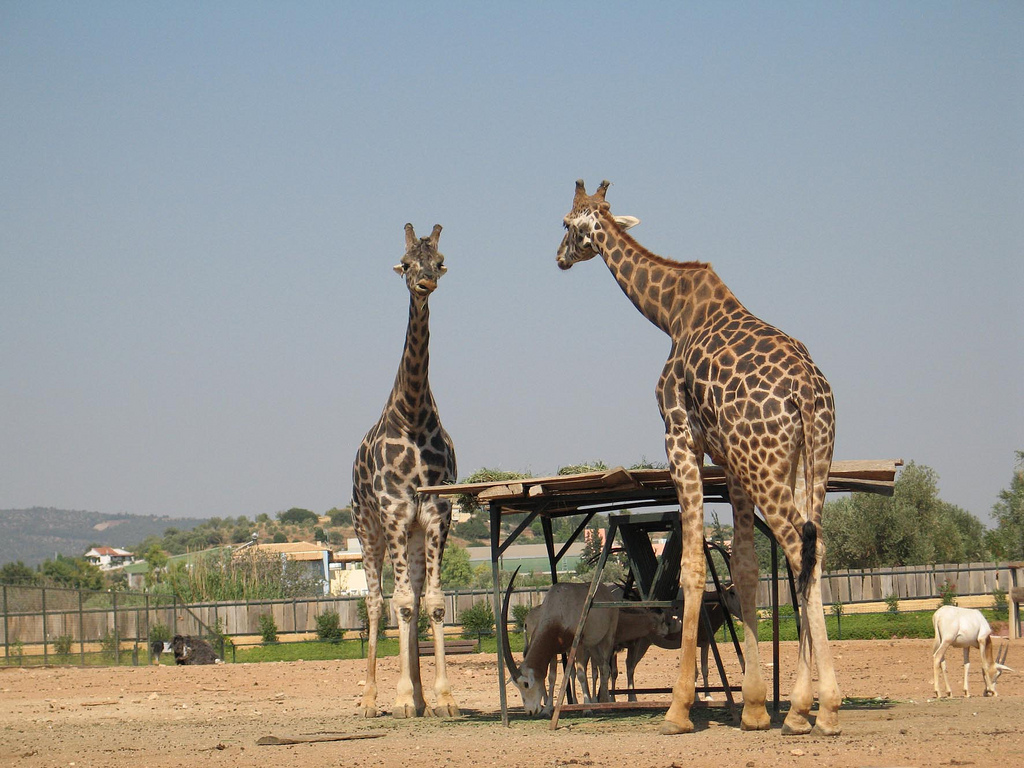giraffe: (554, 158, 870, 734), (340, 205, 512, 707)
